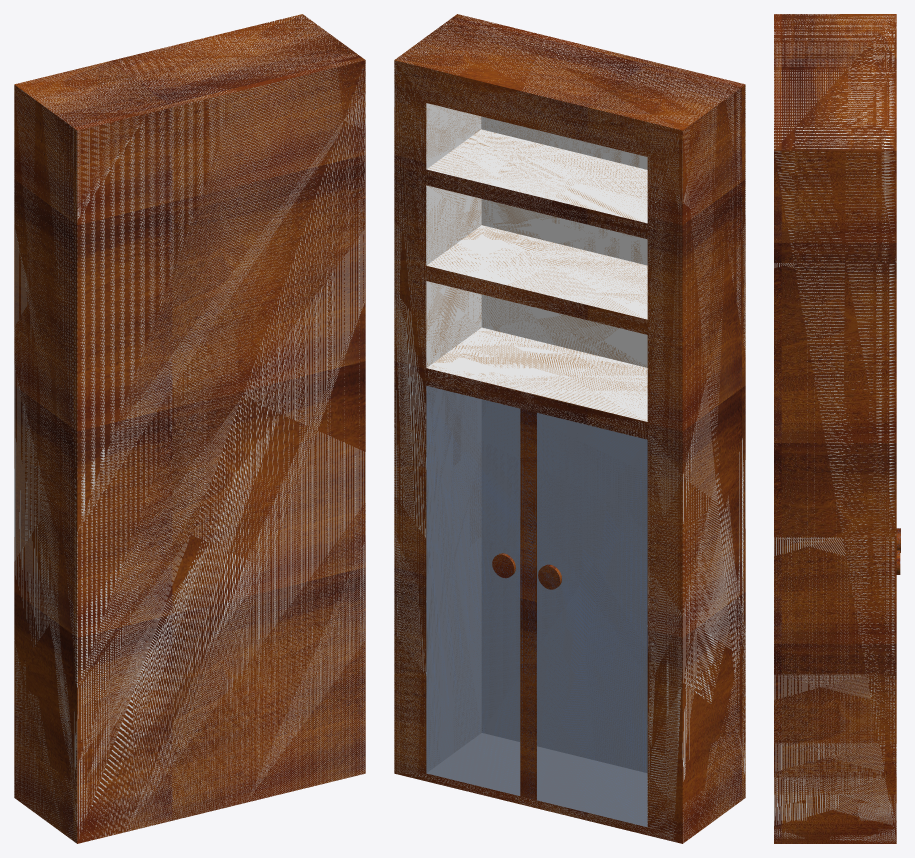
3 renders of one model, left to right at view 1: azimuth 30°, elevation 25°; view 2: azimuth 150°, elevation 25°; view 3: azimuth 270°, elevation 25°, orthographic. The views are drawn at different scales.
Visible parts, largest first — view 1: mesh1_mesh1-geometry; view 2: mesh1_mesh1-geometry; view 3: mesh1_mesh1-geometry.
Boxes of the visible parts, box(x1,y1,x2,y2) form: mesh1_mesh1-geometry: box(14, 14, 365, 843); mesh1_mesh1-geometry: box(394, 14, 745, 843); mesh1_mesh1-geometry: box(774, 14, 900, 843).
Size of the model in its own units: 0.3853 by 0.9104 by 0.1508.
